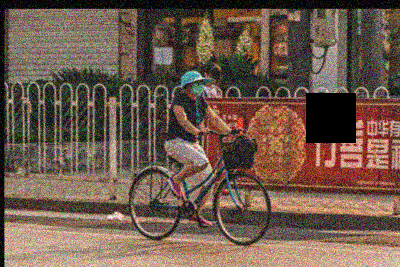with_mask: (188, 77, 203, 95)
without_mask: (209, 75, 220, 86)
